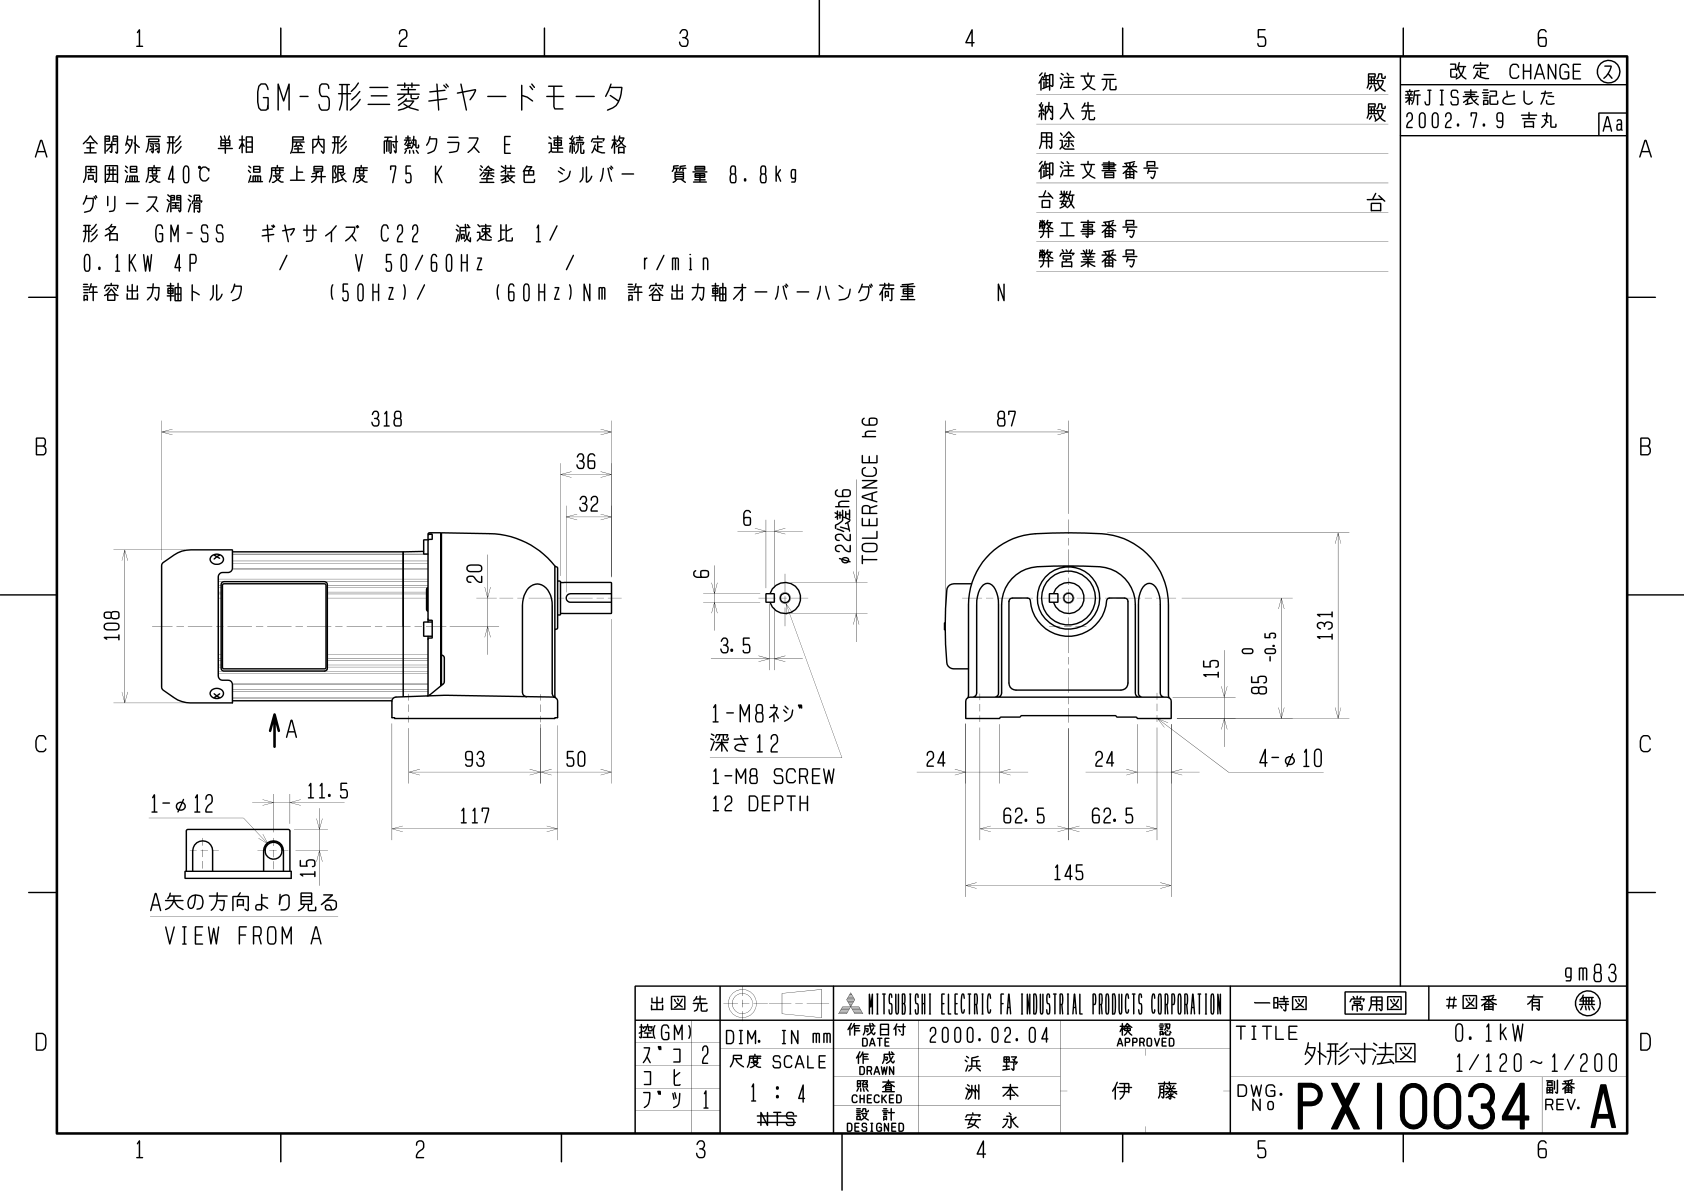GM_S_屋内＿単相_脚: (5, 13, 1684, 1191)
